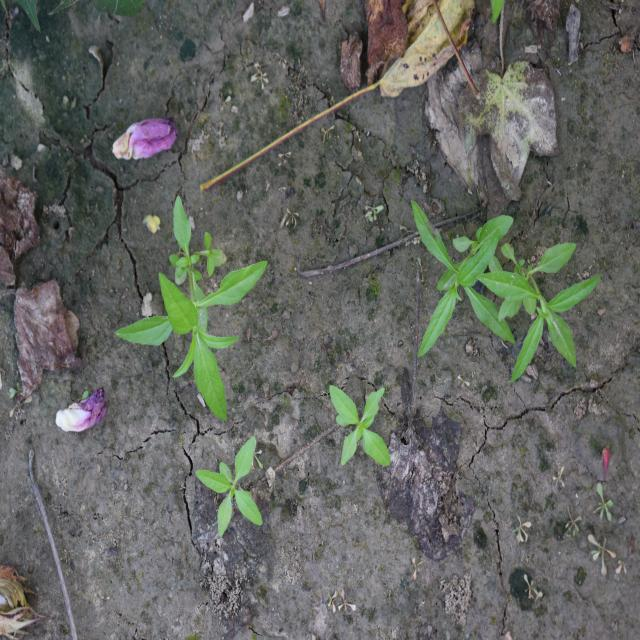Eclipta: (113, 194, 269, 422), (409, 198, 517, 358), (497, 240, 603, 382), (194, 434, 264, 538), (329, 384, 391, 468)
